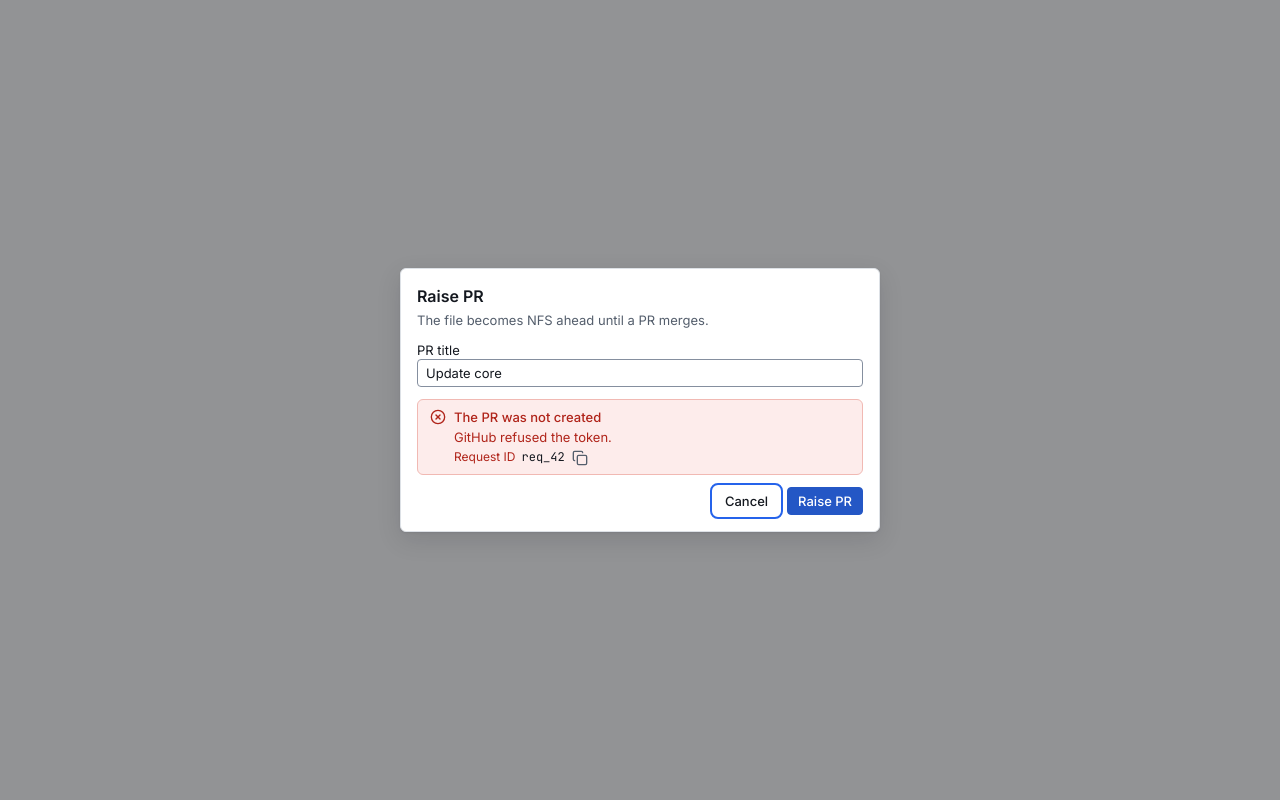
Scenario: ConsequenceDialog › on error keeps the dialog open with the user's input and shows what happened with a request ID
Type " v2" into the field labelled "PR title" at (640, 373), box [417, 359, 863, 387]
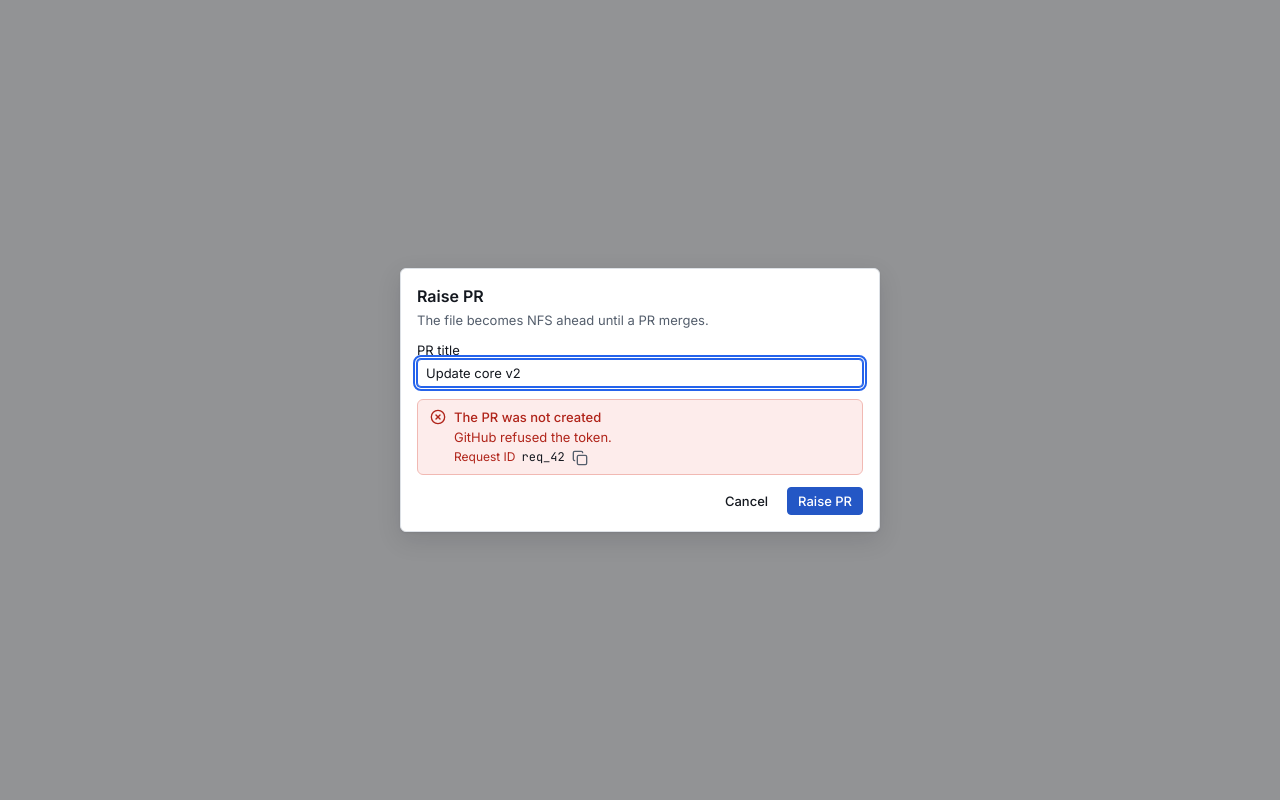
Expected: the message shows "The PR was not created", [454, 409, 601, 425]
Now the field labelled "PR title" holds "Update core v2", box [417, 359, 863, 387]
